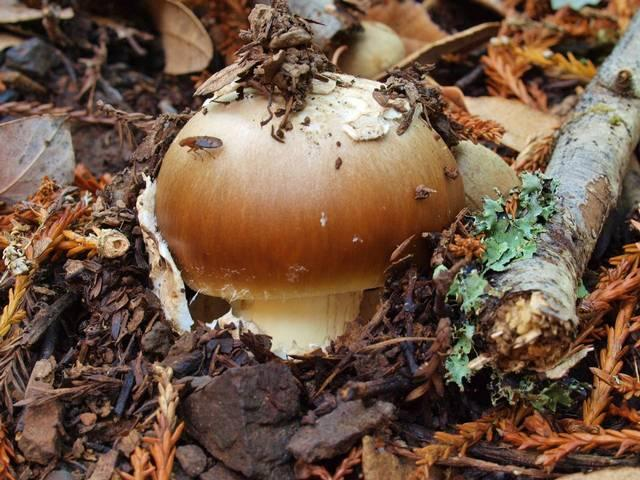edible_mushroom: (147, 61, 466, 358)
